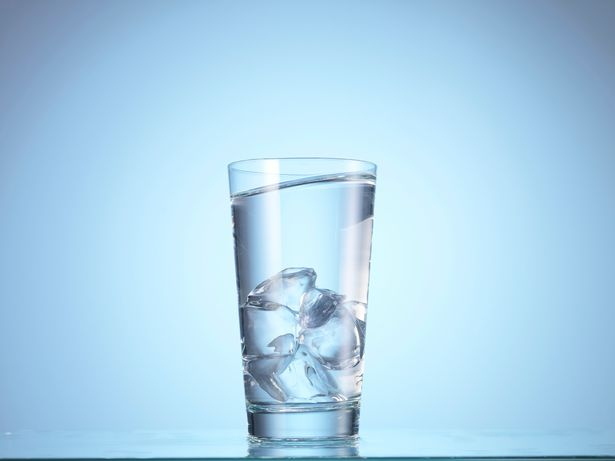glass of water: (238, 167, 358, 422)
